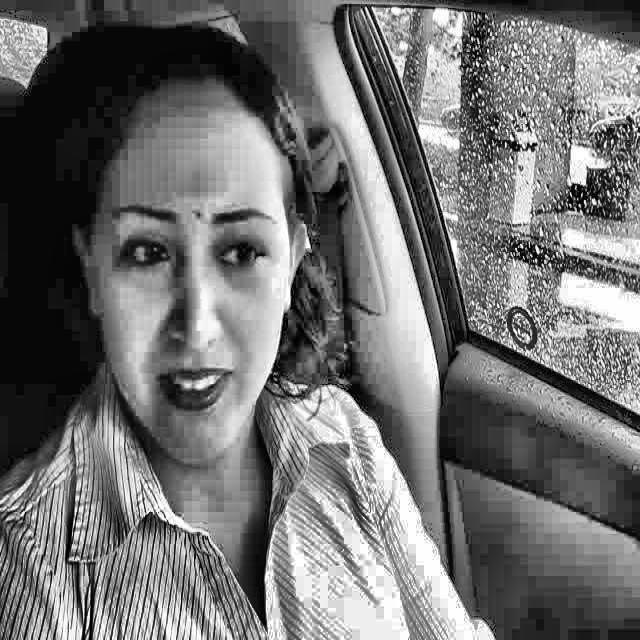closed_mouth: (136, 353, 268, 433)
open_eyes: (207, 228, 281, 288), (106, 223, 178, 281)
